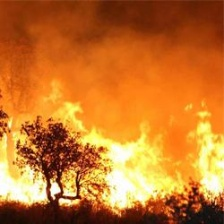fire: (1, 116, 224, 212)
